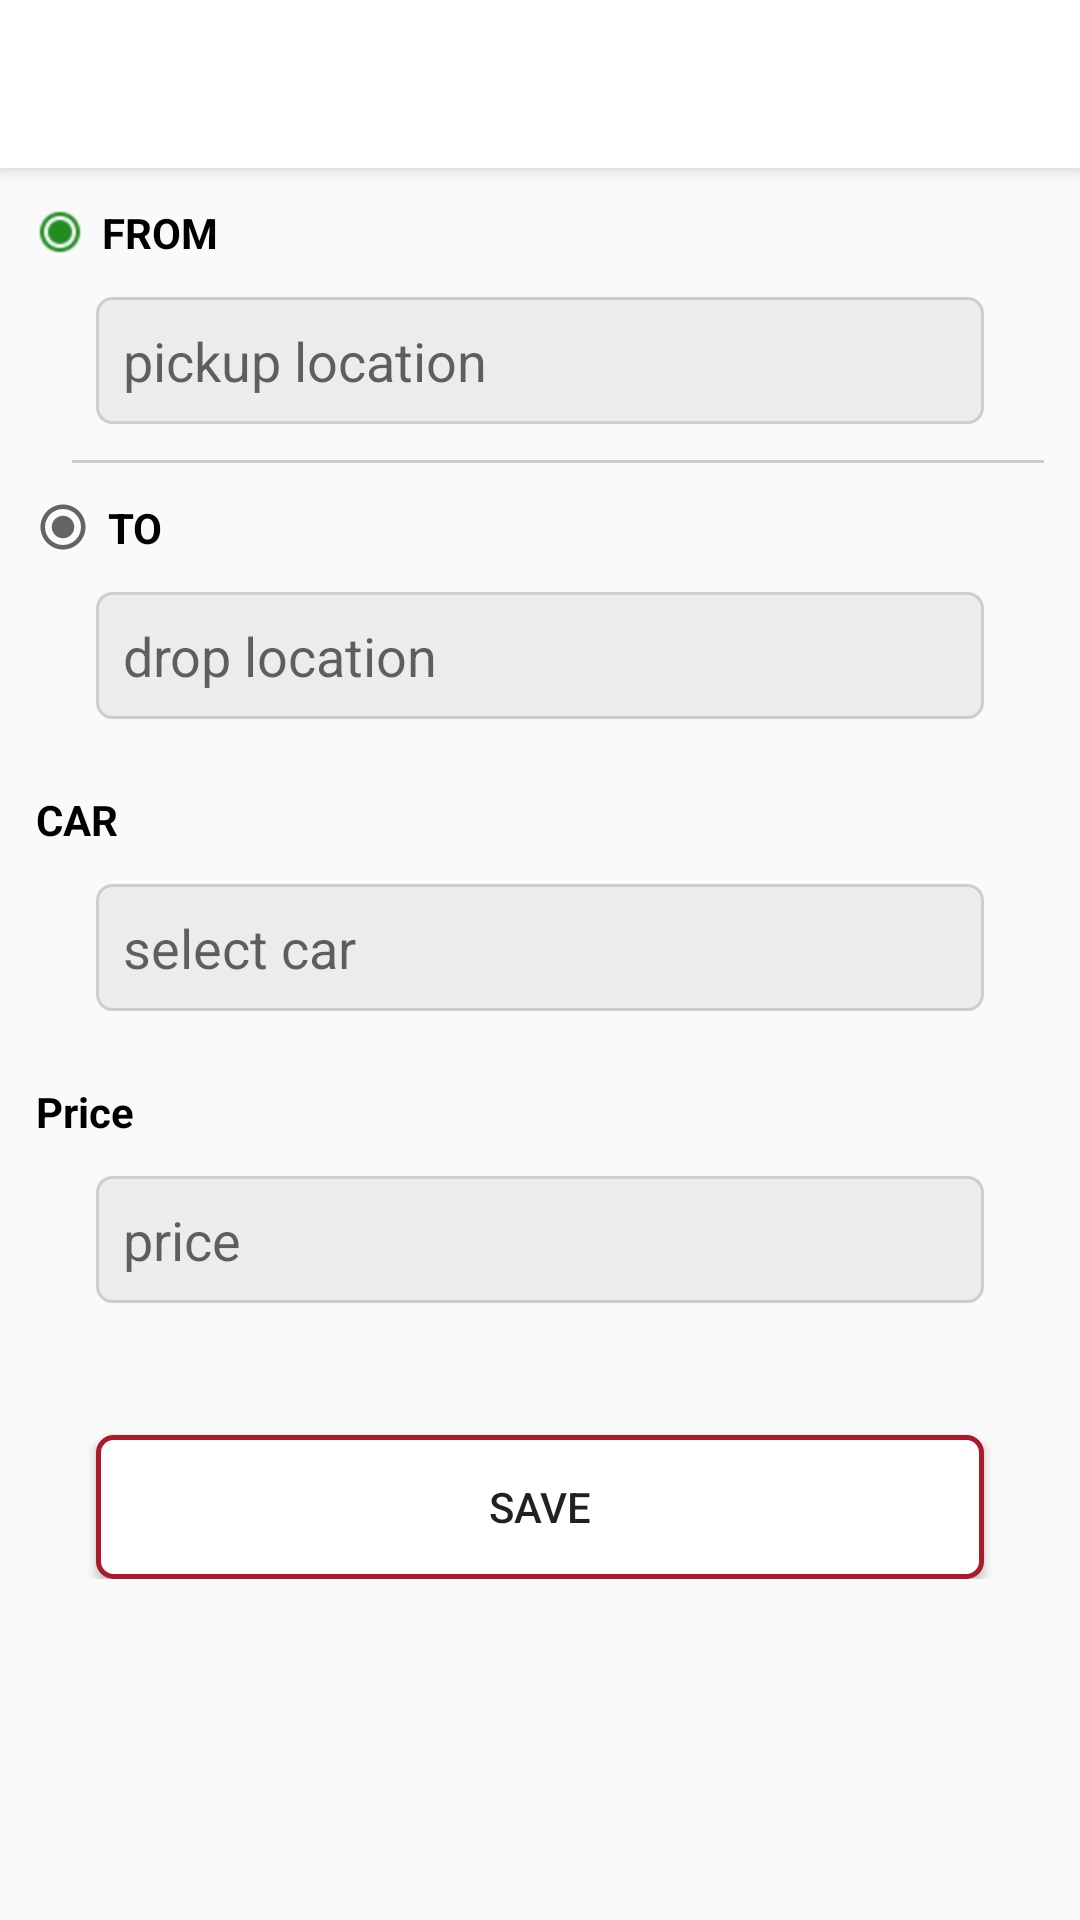

Icon bounding boxes for this 1080*1920 phone screenshot, format (x1, y1, x2, y2):
radio: (39, 211, 81, 253)
